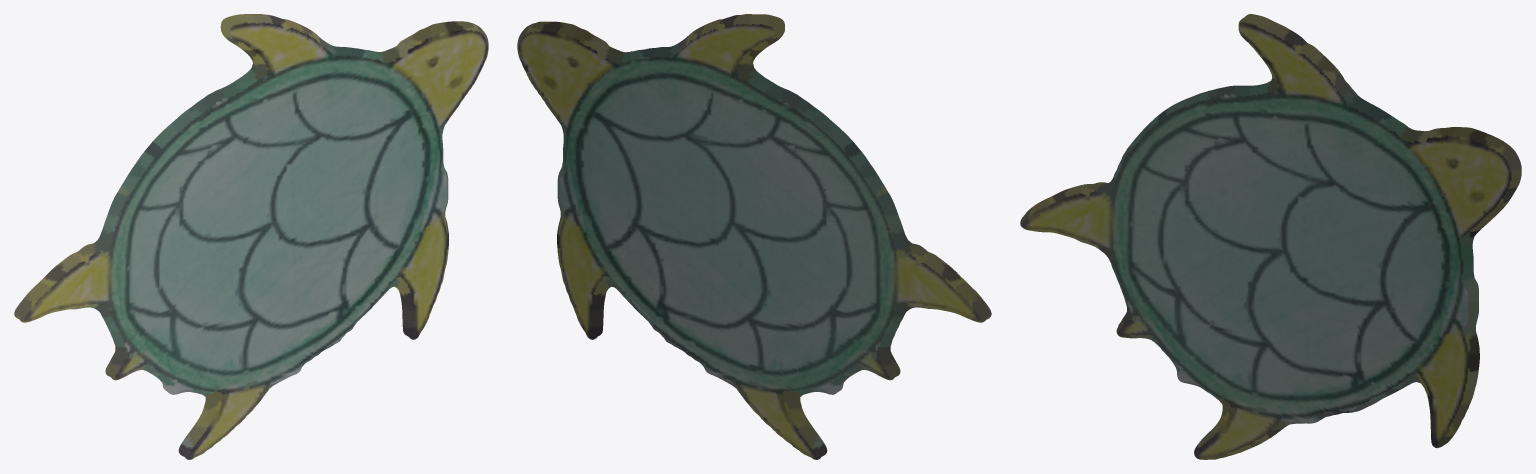
File: turtle.glb
3 views of the same model, side by side, from view 1: azimuth 30°, elevation 25°; view 2: azimuth 150°, elevation 25°; view 3: azimuth 330°, elevation 25° (orthographic). The views are drawn at different scales.
Size of the model in its own units: 0.2881 by 0.2518 by 0.00998.
